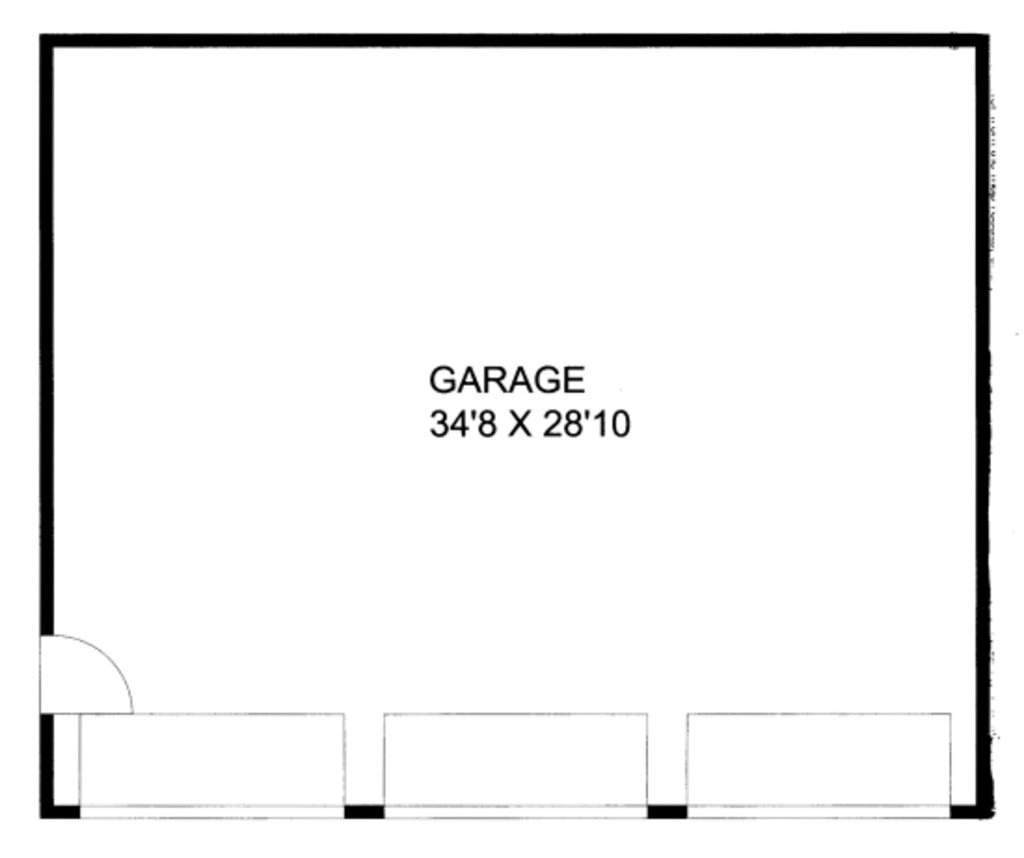door: (27, 639, 140, 724)
